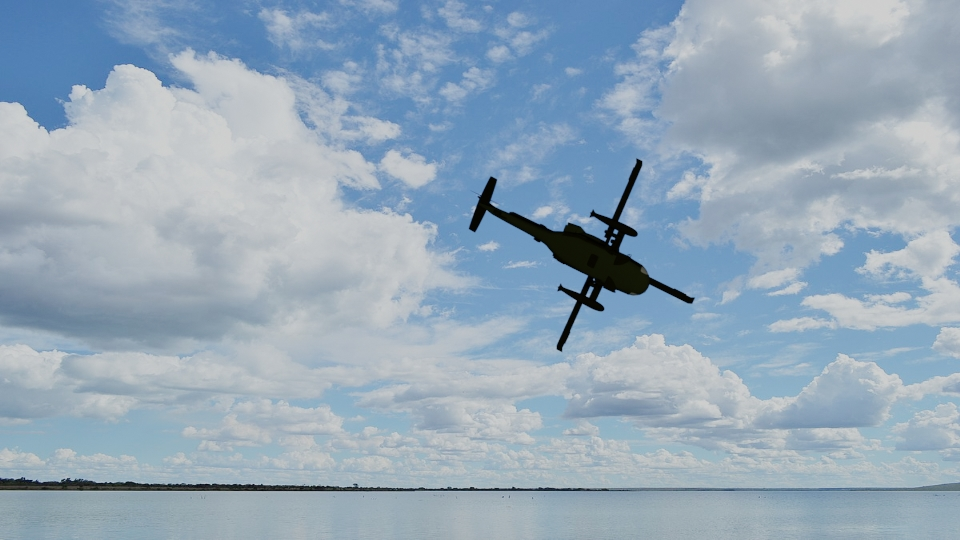heli: (467, 157, 693, 351)
